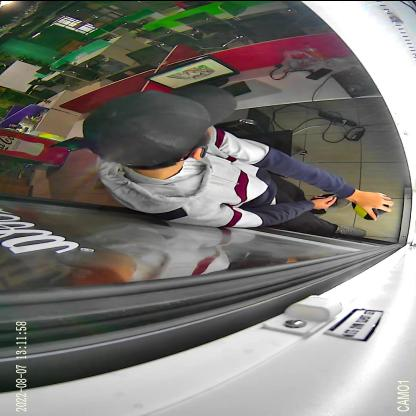yellow: (352, 198, 390, 219)
